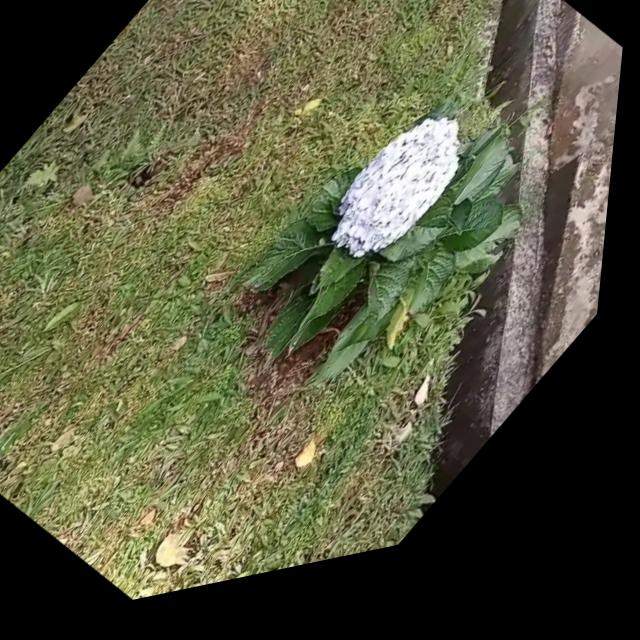Flower: (309, 99, 501, 311)
